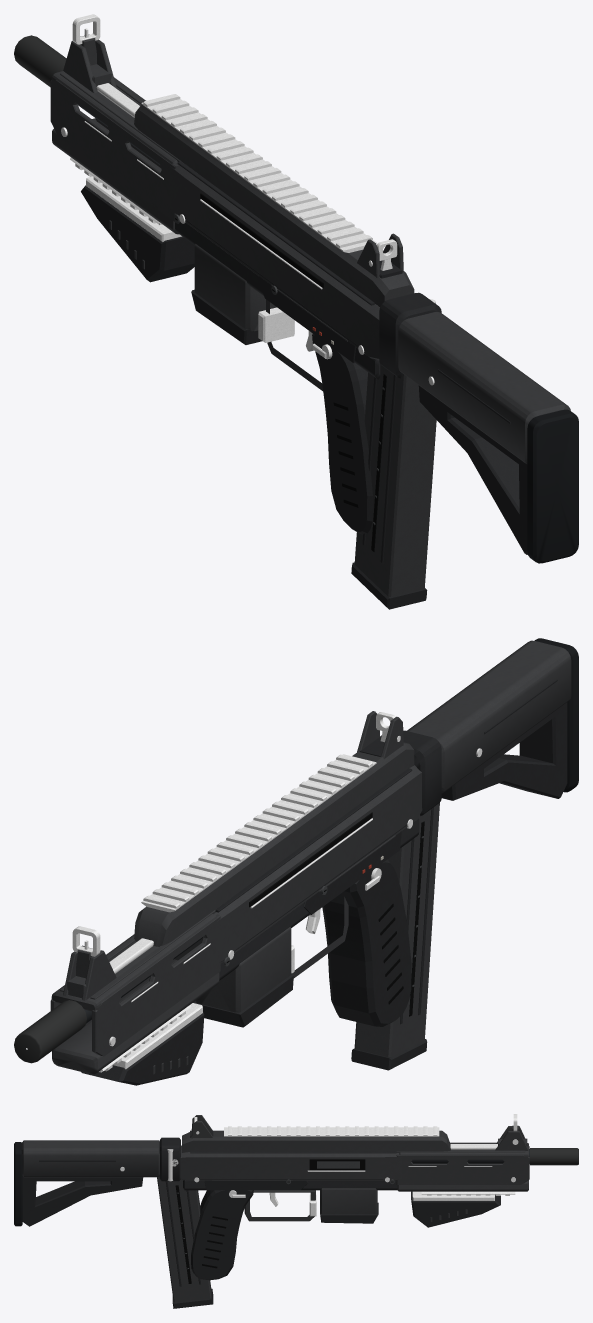
The model's file is weapon-77-DD2Cuupd.glb.
The picture shows the model from 3 angles, top to bottom: view 1: azimuth 30°, elevation 25°; view 2: azimuth 150°, elevation 25°; view 3: azimuth 270°, elevation 25°; orthographic projection. The views are drawn at different scales.
Visible parts, largest first — view 1: salient_weapon_body, salient_weapon_stock, salient_weapon_magazine, salient_weapon_iron; view 2: salient_weapon_body, salient_weapon_stock, salient_weapon_magazine, salient_weapon_iron; view 3: salient_weapon_body, salient_weapon_stock, salient_weapon_magazine, salient_weapon_iron.
Part boxes in pixels (x1=…): salient_weapon_body: x1=14, y1=35, x2=414, y2=534; salient_weapon_stock: x1=379, y1=292, x2=578, y2=563; salient_weapon_magazine: x1=351, y1=364, x2=436, y2=609; salient_weapon_iron: x1=63, y1=14, x2=403, y2=278; salient_weapon_body: x1=14, y1=742, x2=422, y2=1085; salient_weapon_stock: x1=403, y1=638, x2=578, y2=815; salient_weapon_magazine: x1=351, y1=803, x2=439, y2=1070; salient_weapon_iron: x1=63, y1=711, x2=403, y2=1000; salient_weapon_body: x1=180, y1=1126, x2=578, y2=1280; salient_weapon_stock: x1=14, y1=1137, x2=180, y2=1226; salient_weapon_magazine: x1=157, y1=1176, x2=213, y2=1308; salient_weapon_iron: x1=190, y1=1114, x2=528, y2=1150.
Size of the model in its own units: 0.0346 by 0.2121 by 0.578.
22 materials, 14 textured.
